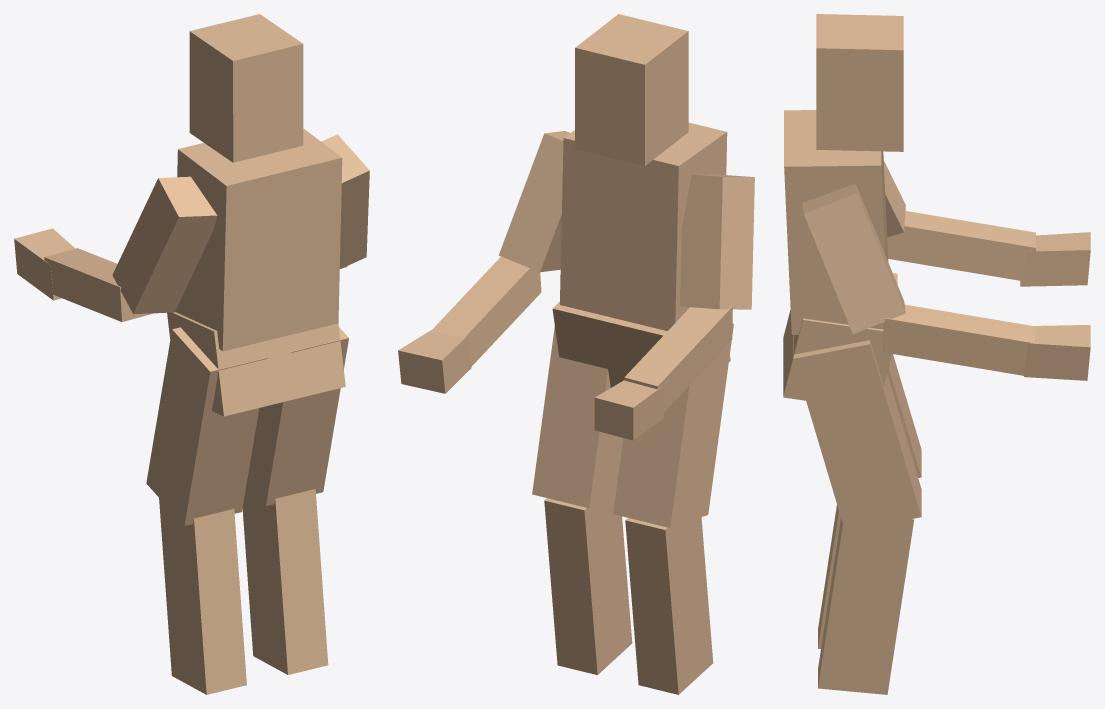
The model's file is Character_Place_holder.glb.
3 views of the same model, side by side, from view 1: azimuth 30°, elevation 25°; view 2: azimuth 150°, elevation 25°; view 3: azimuth 270°, elevation 25° (orthographic).
Visible parts, largest first — view 1: Character_Place_holder; view 2: Character_Place_holder; view 3: Character_Place_holder.
Part boxes in pixels (x1,y1,x2,y2): Character_Place_holder: (14, 14, 369, 694); Character_Place_holder: (398, 14, 754, 694); Character_Place_holder: (783, 14, 1090, 694).
Size of the model in its own units: 1.07 by 2.73 by 1.2.
